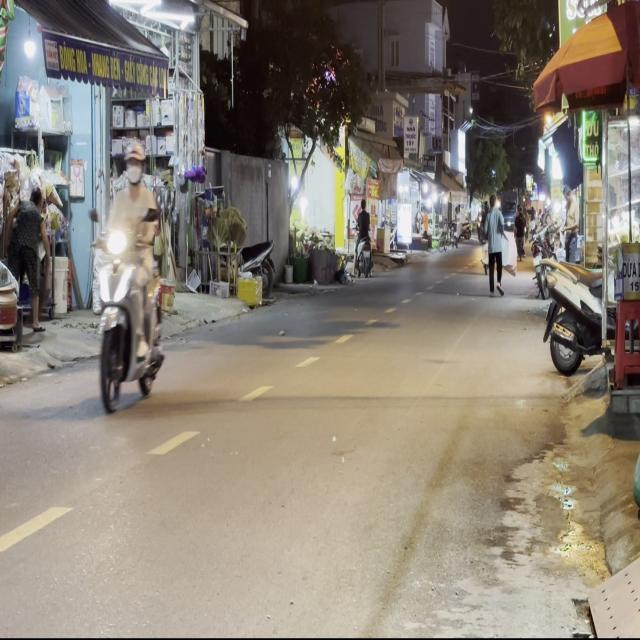helmet: (123, 139, 145, 185)
licenseplate: (92, 138, 166, 412)
